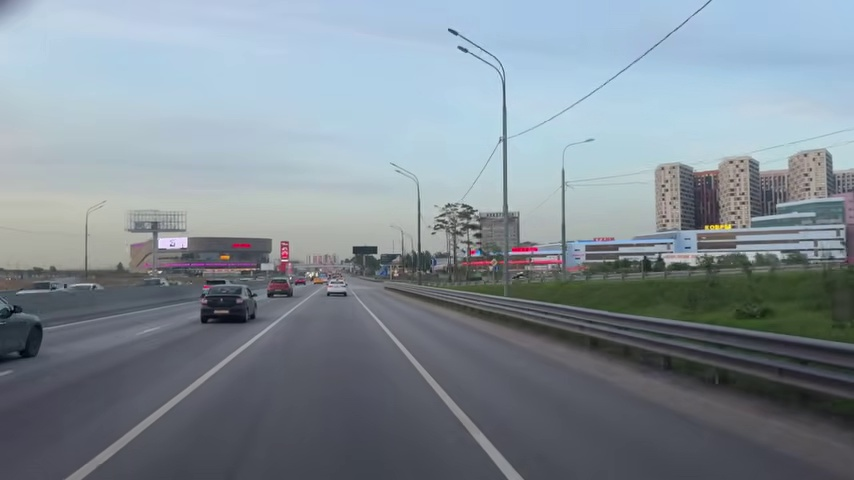apagada: (446, 25, 470, 54), (448, 34, 471, 59), (446, 25, 463, 43), (387, 161, 404, 179), (582, 135, 596, 147)
